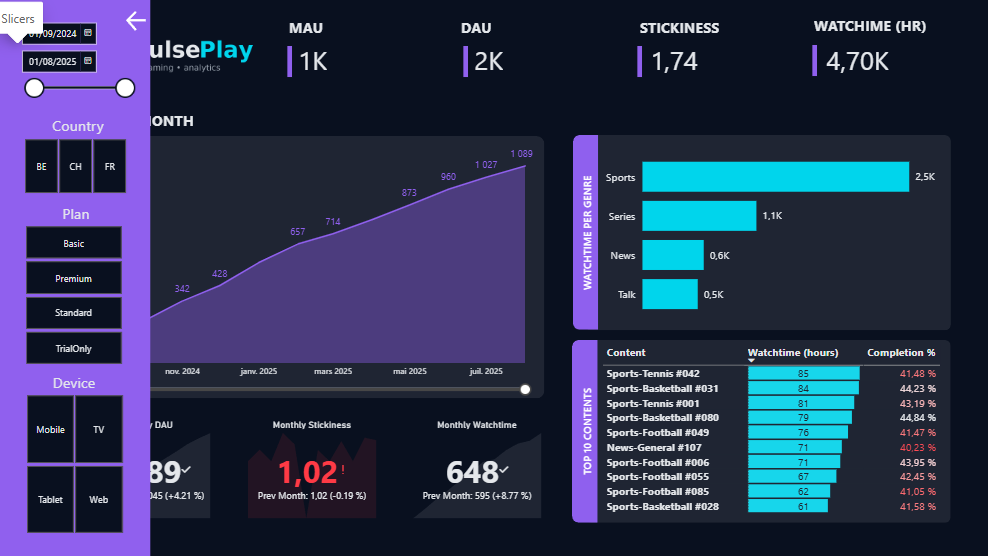

Layout of this report page (visuals, bound fields, positions):
{"tool":"powerbi","page":{"name":"Overview","canvas":[1280,720],"ordinal":0},"visuals":[{"type":"cardVisual","fields":{"Data":["Measures Table.MAU","Measures Table.DAU","Measures Table.Stickiness (1/30)","Measures Table.Watchtime_hr"]},"box":[368.3,29,911.7,86],"z":0,"group":"g1"},{"type":"shape","box":[86.7,175,616.7,338.3],"z":0},{"type":"actionButton","title":"Overview","box":[5,561.7,35,35],"z":0,"group":"g2"},{"type":"shape","box":[1046.4,57,9.5,40],"z":1000,"group":"g1"},{"type":"actionButton","box":[5,529,34,34],"z":1000},{"type":"shape","title":"Left Nav Background","box":[0,0,45,720],"z":2000},{"type":"textbox","box":[1044.5,15,182.3,36],"z":2000,"group":"g1"},{"type":"actionButton","title":"Content","box":[5,609.4,34,34],"z":2000,"group":"g2"},{"type":"shape","box":[821,58.8,9.5,40],"z":3000,"group":"g1"},{"type":"areaChart","title":"Revenue Trending","fields":{"Category":["date_dim.Début de mois.Variation.Hiérarchie de dates.Année","date_dim.Début de mois.Variation.Hiérarchie de dates.Trimestre","date_dim.Début de mois.Variation.Hiérarchie de dates.Mois","date_dim.Début de mois.Variation.Hiérarchie de dates.Jour"],"Y":["Measures Table.MAU"]},"box":[86.7,174.4,617.8,338.9],"z":3000},{"type":"actionButton","title":"Acquisition","box":[5,656,34,34],"z":3000,"group":"g2"},{"type":"textbox","box":[820.3,17,180.4,36],"z":4000,"group":"g1"},{"type":"textbox","box":[86.7,138.3,200,36.7],"z":4000},{"type":"image","box":[86.7,18.3,300,83.3],"z":5000},{"type":"shape","box":[596.2,59,9.5,40],"z":5000,"group":"g1"},{"type":"kpi","title":"Monthly DAU","fields":{"Indicator":["Measures Table.MAU"],"TrendLine":["date_dim.Début de mois"],"Goal":["Measures Table.Last Month DAU"]},"box":[102.2,540,175.6,133.3],"z":5000,"group":"g5"},{"type":"group","id":"g1","title":"Groupe 1","box":[368.3,15,911.7,100],"z":6000},{"type":"textbox","box":[590.5,17,182.3,36],"z":6000,"group":"g1"},{"type":"kpi","title":"Monthly Stickiness","fields":{"TrendLine":["date_dim.Début de mois"],"Indicator":["Measures Table.Stickiness (1/30)"],"Goal":["Measures Table.Last Month Stickiness"]},"box":[315.5,540,175.6,133.3],"z":6000,"group":"g5"},{"type":"shape","box":[370.2,59,9.5,40],"z":7000,"group":"g1"},{"type":"actionButton","title":"Open filters","box":[2,60,45,38],"z":7000},{"type":"kpi","title":"Monthly Watchtime","fields":{"TrendLine":["date_dim.Début de mois"],"Indicator":["Measures Table.Watchtime_hr"],"Goal":["Measures Table.Last Month Watchtime"]},"box":[528.9,540,175.6,133.3],"z":7000,"group":"g5"},{"type":"actionButton","title":"Clear filters","box":[1.7,10,40,45],"z":8000},{"type":"textbox","box":[368.3,17,182.3,36],"z":8000,"group":"g1"},{"type":"group","id":"g2","title":"Navigation","box":[5,561.7,35,128.3],"z":10000},{"type":"shape","box":[755.5,174,471.7,251.8],"z":11000,"group":"g4"},{"type":"group","id":"g3","title":"Groupe 2","box":[738.9,438.3,487.8,236.1],"z":11000},{"type":"group","id":"g4","title":"Groupe 3","box":[740,173.8,487.1,252],"z":12000},{"type":"shape","box":[740,173.8,32.5,251.2],"z":12000,"group":"g4"},{"type":"barChart","fields":{"Category":["content.genre"],"Y":["Measures Table.Watchtime_hr"]},"box":[773.8,175,447.5,250],"z":13000,"group":"g4"},{"type":"group","id":"g5","title":"Groupe 4","box":[102.2,540,602.2,133.3],"z":13000},{"type":"pivotTable","fields":{"Rows":["content.title"],"Values":["Measures Table.Watchtime_hr","Measures Table.Completion Rate"]},"box":[773.3,438.3,448.3,235],"z":13500,"group":"g3"},{"type":"shape","box":[756.7,438.9,470,235.6],"z":14000,"group":"g3"},{"type":"shape","box":[738.9,438.9,33.3,235.6],"z":17000,"group":"g3"}]}

Visuals, with their boxes on the page's 1280x720 design canvas (x1, y1, x2, y2). These are canvas units, not pixel positions in the 988x556 screenshot, which may show the page scaled, cropped or inside an application window:
cardVisual - Measures Table.MAU x Measures Table.DAU: select_region(368, 29, 1280, 115)
shape: select_region(87, 175, 703, 513)
"Overview" actionButton: select_region(5, 562, 40, 597)
shape: select_region(1046, 57, 1056, 97)
actionButton: select_region(5, 529, 39, 563)
"Left Nav Background" shape: select_region(0, 0, 45, 720)
textbox: select_region(1044, 15, 1227, 51)
"Content" actionButton: select_region(5, 609, 39, 643)
shape: select_region(821, 59, 830, 99)
"Revenue Trending" areaChart: select_region(87, 174, 704, 513)
"Acquisition" actionButton: select_region(5, 656, 39, 690)
textbox: select_region(820, 17, 1001, 53)
textbox: select_region(87, 138, 287, 175)
image: select_region(87, 18, 387, 102)
shape: select_region(596, 59, 606, 99)
"Monthly DAU" kpi: select_region(102, 540, 278, 673)
"Groupe 1" group: select_region(368, 15, 1280, 115)
textbox: select_region(590, 17, 773, 53)
"Monthly Stickiness" kpi: select_region(316, 540, 491, 673)
shape: select_region(370, 59, 380, 99)
"Open filters" actionButton: select_region(2, 60, 47, 98)
"Monthly Watchtime" kpi: select_region(529, 540, 704, 673)
"Clear filters" actionButton: select_region(2, 10, 42, 55)
textbox: select_region(368, 17, 551, 53)
"Navigation" group: select_region(5, 562, 40, 690)
shape: select_region(756, 174, 1227, 426)
"Groupe 2" group: select_region(739, 438, 1227, 674)
"Groupe 3" group: select_region(740, 174, 1227, 426)
shape: select_region(740, 174, 772, 425)
barChart - content.genre x Measures Table.Watchtime_hr: select_region(774, 175, 1221, 425)
"Groupe 4" group: select_region(102, 540, 704, 673)
pivotTable - content.title x Measures Table.Watchtime_hr: select_region(773, 438, 1222, 673)
shape: select_region(757, 439, 1227, 674)
shape: select_region(739, 439, 772, 674)
